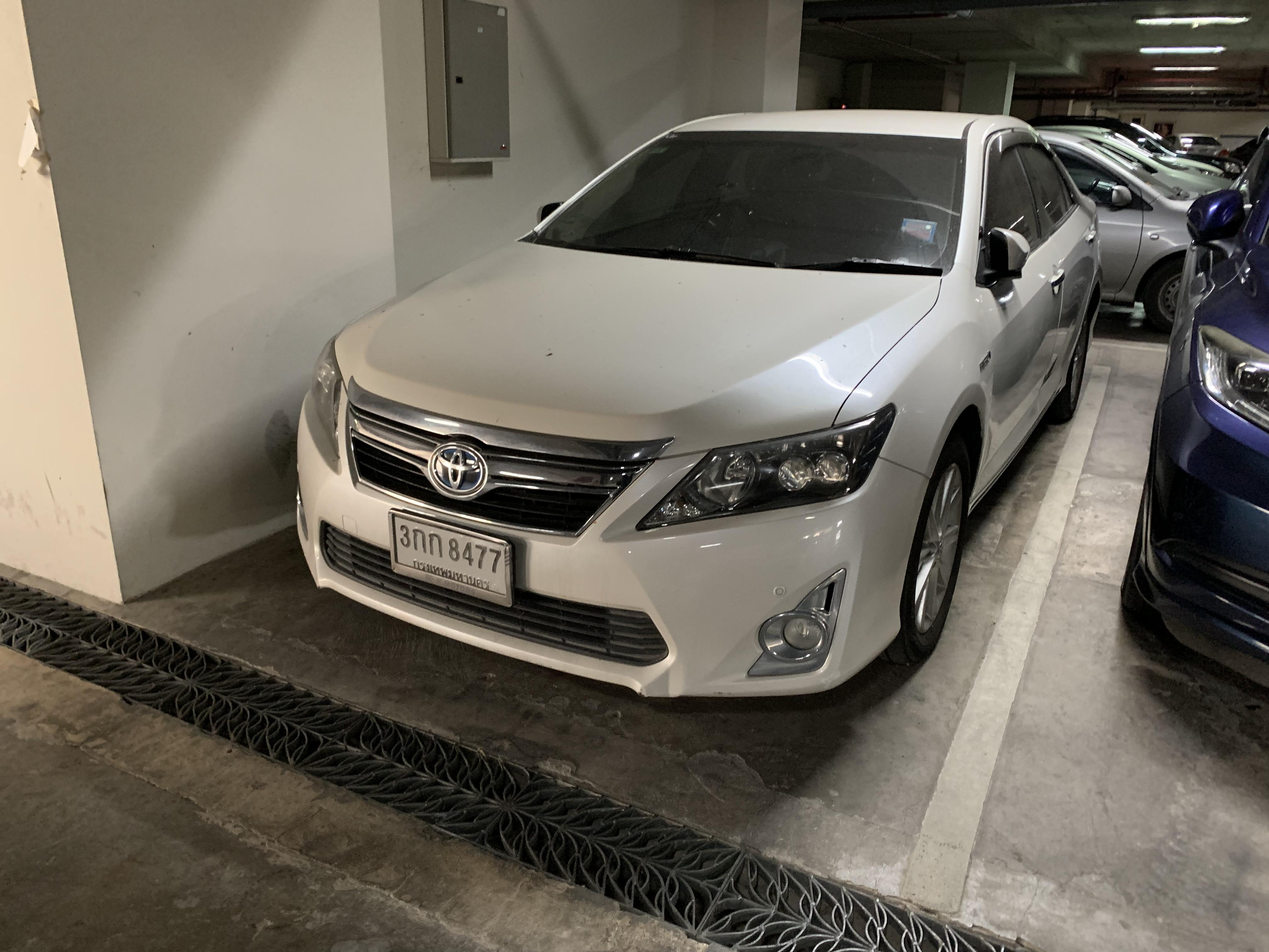license-plate: (386, 507, 519, 618)
